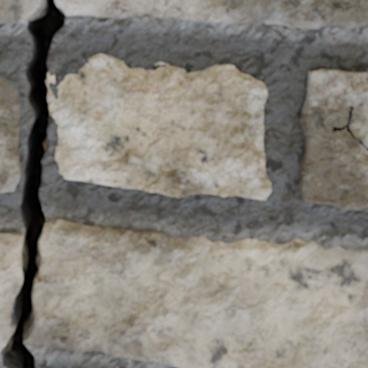brick: (51, 54, 270, 199), (299, 69, 367, 209), (0, 78, 20, 191), (49, 75, 54, 82)
broken_brick: (26, 218, 367, 367), (56, 0, 367, 29), (0, 232, 23, 352), (0, 0, 38, 23)
crack: (1, 0, 65, 367), (332, 104, 367, 151)
